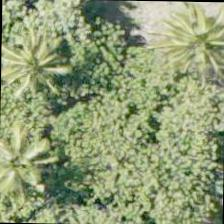Kelapa_Sawit: (0, 20, 79, 111), (154, 1, 223, 90), (0, 120, 64, 212), (152, 1, 223, 66)
